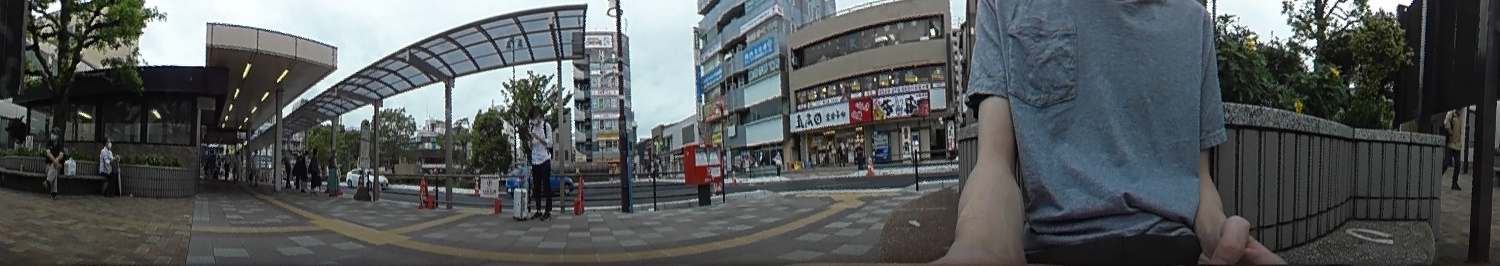difficult_person: (325, 146, 340, 197), (295, 147, 312, 190), (308, 148, 323, 193), (228, 148, 241, 186), (250, 148, 260, 184), (282, 151, 292, 186), (205, 151, 216, 181), (833, 140, 844, 165), (772, 151, 784, 172), (854, 141, 863, 162)
person: (518, 107, 559, 220), (1445, 102, 1468, 188), (40, 124, 68, 194), (96, 135, 121, 197)
